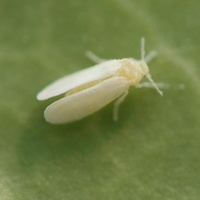insect: (37, 38, 162, 123)
